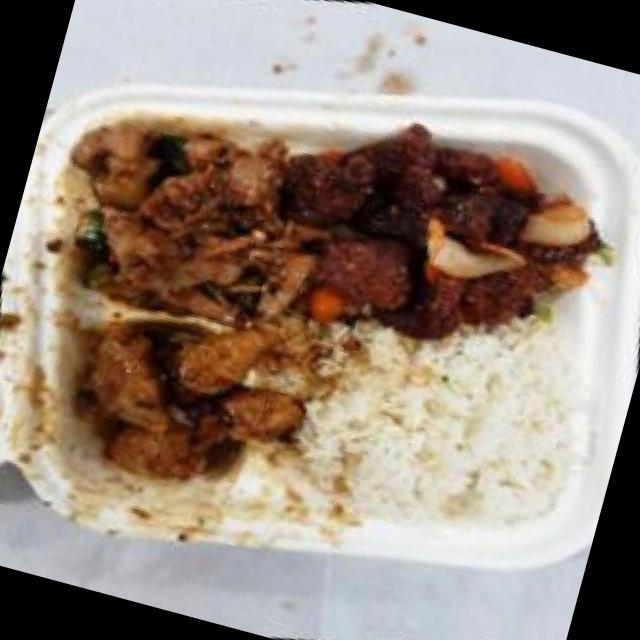Beijing Beef: (235, 54, 640, 407)
Kung Pao Chicken: (19, 62, 349, 376)
The Original Orange Chicken: (29, 267, 334, 535)
White Steamed Rice: (260, 266, 624, 586)
